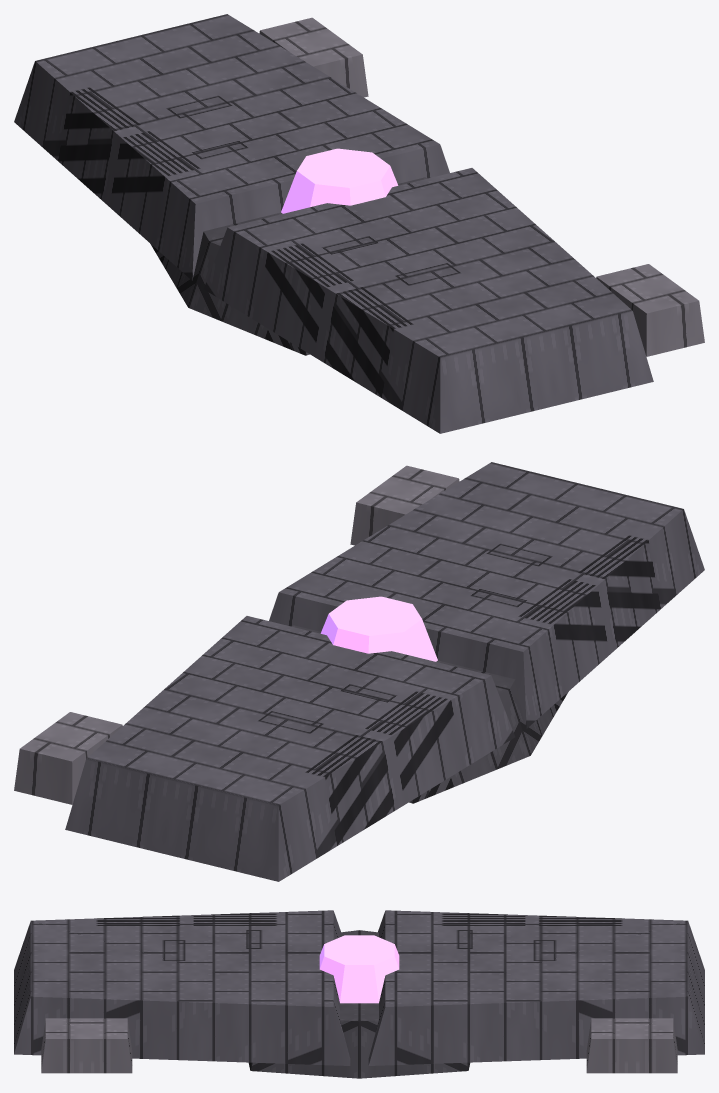
File: anvil_iris.glb
The picture shows the model from 3 angles, top to bottom: view 1: azimuth 30°, elevation 25°; view 2: azimuth 150°, elevation 25°; view 3: azimuth 270°, elevation 25°; orthographic projection. The views are drawn at different scales.
Size of the model in its own units: 33 by 10 by 76.
6 materials, 5 textured.
